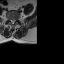CCS_normal: (12, 18, 13, 25)
LFS_severe_stenosis: (15, 17, 17, 22)
LLS_normal: (13, 18, 15, 24)
RFS_stenosis: (9, 17, 10, 22)
RLS_normal: (10, 18, 12, 24)
